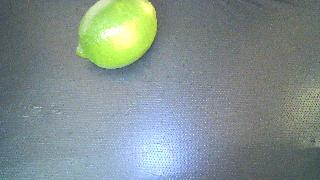EXPORTACION: (76, 0, 157, 69)
